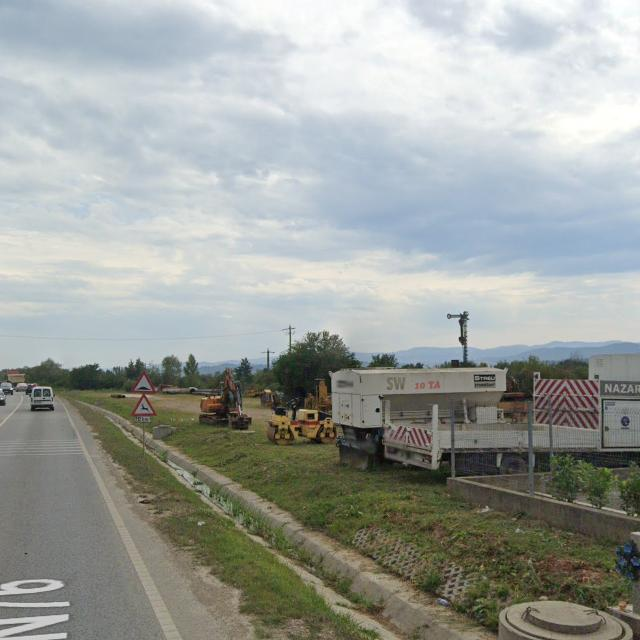warn_speed_bumper: (131, 371, 156, 394)
warn_wild_animals: (132, 393, 157, 416)
